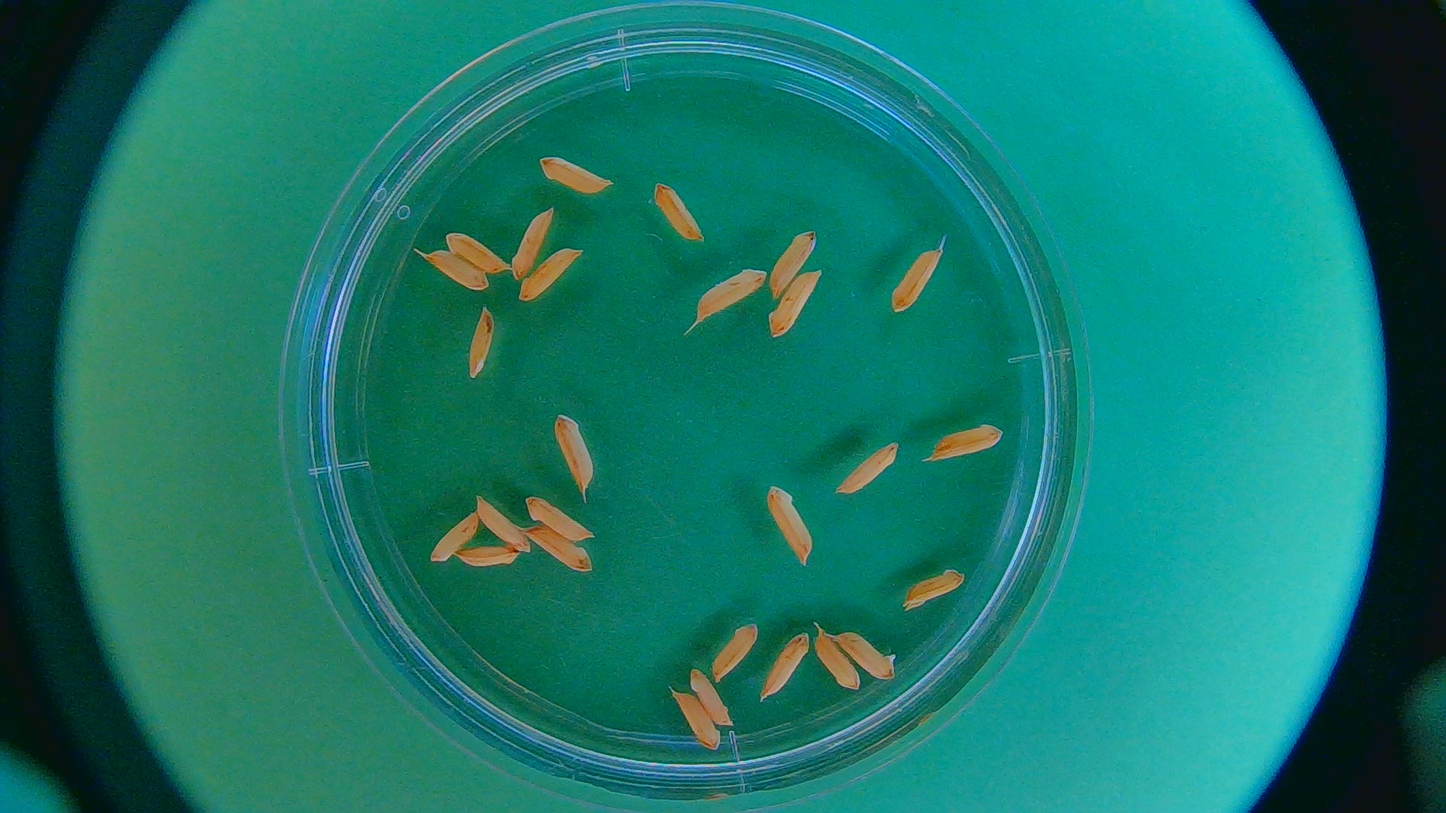no: (762, 272, 823, 338), (763, 486, 813, 565), (694, 268, 766, 322), (889, 246, 941, 314), (520, 245, 583, 300), (837, 440, 901, 494), (761, 631, 810, 699), (834, 630, 896, 682), (527, 495, 593, 543), (671, 687, 722, 749), (523, 526, 593, 571), (510, 209, 555, 279), (767, 233, 815, 297), (536, 156, 614, 195), (652, 182, 703, 241), (555, 414, 593, 492), (443, 231, 510, 274), (429, 508, 480, 563), (813, 631, 862, 688), (711, 625, 759, 683), (688, 664, 733, 725), (932, 425, 1002, 464), (425, 249, 490, 290), (475, 496, 528, 546), (902, 569, 967, 606), (467, 307, 495, 376), (456, 544, 523, 571)
